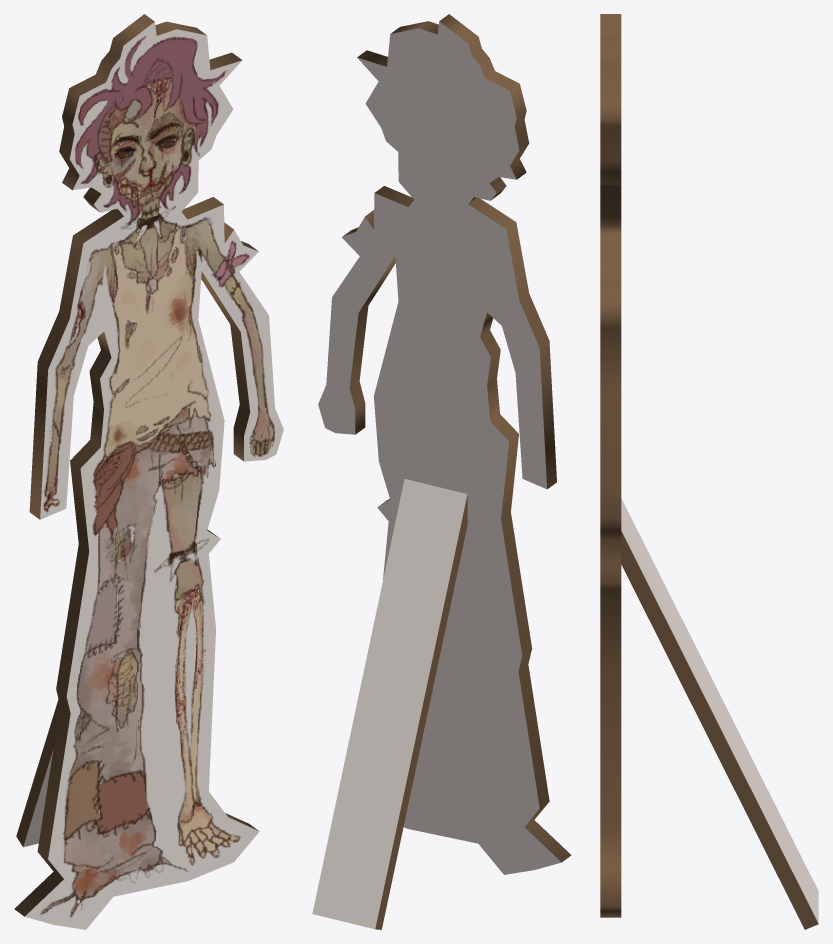
File: Semlan_Angry.fbx
The picture shows the model from 3 angles, left to right: view 1: azimuth 30°, elevation 25°; view 2: azimuth 150°, elevation 25°; view 3: azimuth 270°, elevation 25°; orthographic projection. The views are drawn at different scales.
Visible parts, largest first — view 1: Semlan_Angry; view 2: Semlan_Angry; view 3: Semlan_Angry.
Boxes of the visible parts, box(x1,y1,x2,y2) form: Semlan_Angry: box(14, 14, 283, 929); Semlan_Angry: box(312, 14, 571, 929); Semlan_Angry: box(600, 14, 818, 929).
Bounding box in the file's own units: 53.85 × 177 × 39.1.
1 material, 1 textured.
